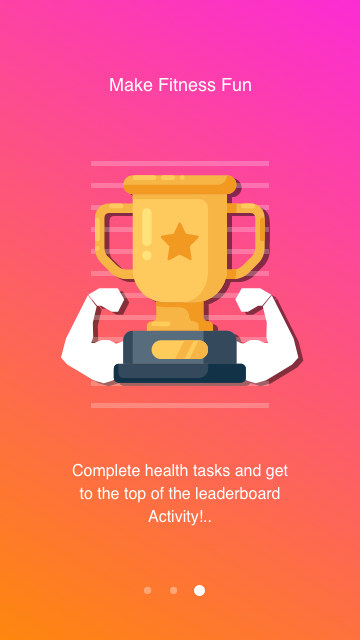Image: (61, 161, 304, 409)
PageIndicator: (143, 584, 207, 597)
Text: (73, 464, 288, 526), (110, 78, 252, 93)
